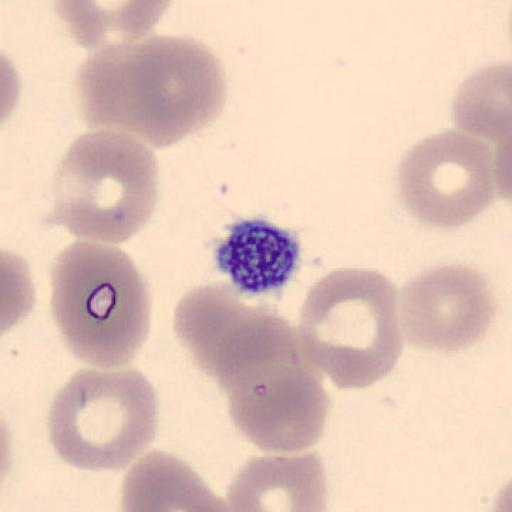Platelet: (213, 213, 305, 298)
RBC: (73, 34, 226, 149), (294, 264, 404, 390), (218, 334, 332, 454), (49, 240, 153, 370), (48, 127, 160, 245), (120, 33, 228, 148), (46, 365, 160, 473), (172, 280, 293, 380), (395, 127, 495, 230), (395, 261, 498, 357), (117, 447, 234, 512), (451, 60, 512, 184), (465, 62, 512, 203), (51, 0, 174, 52), (224, 451, 328, 512), (451, 61, 512, 144), (1, 245, 37, 336), (1, 47, 22, 128), (0, 406, 14, 498), (488, 474, 512, 512)
